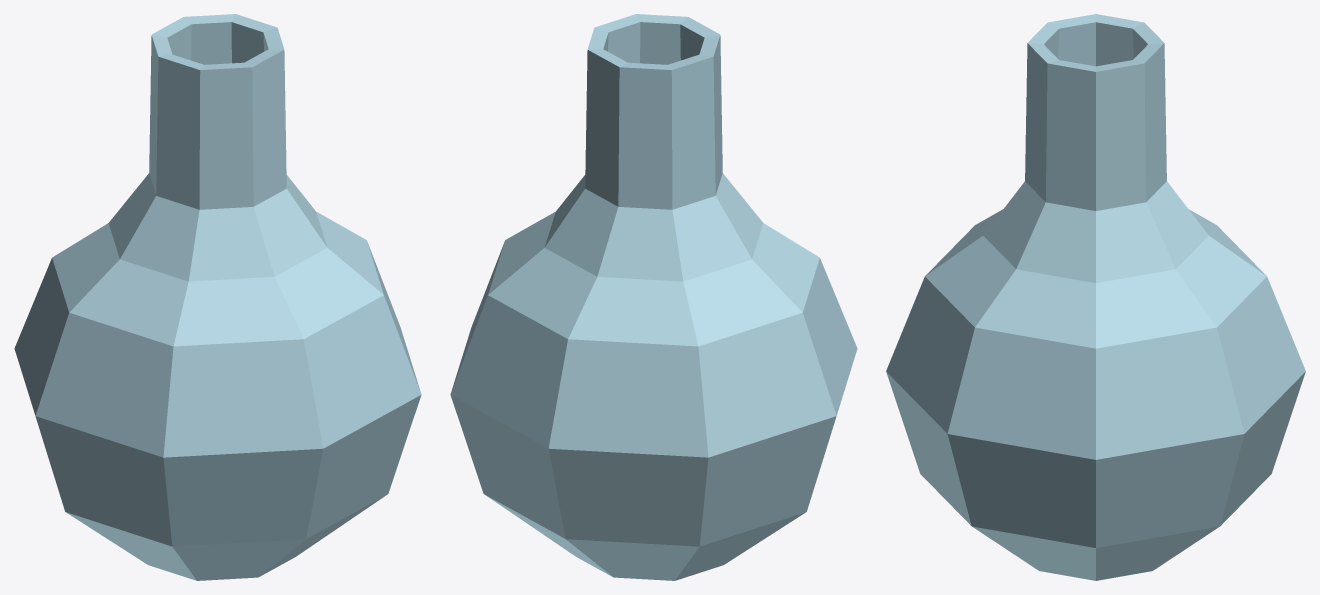
The model's file is SM_Flask_A.gltf.
The picture shows the model from 3 angles, left to right: view 1: azimuth 30°, elevation 25°; view 2: azimuth 150°, elevation 25°; view 3: azimuth 270°, elevation 25°; orthographic projection.
Parts seen in each view (by area): view 1: SM_Flask_A; view 2: SM_Flask_A; view 3: SM_Flask_A.
Part boxes in pixels (bbox=[...]): SM_Flask_A: bbox=[14, 14, 421, 580]; SM_Flask_A: bbox=[450, 14, 857, 580]; SM_Flask_A: bbox=[886, 14, 1305, 580].
Bounding box in the file's own units: 0.1158 × 0.1592 × 0.1158.
2 materials, 1 textured.
